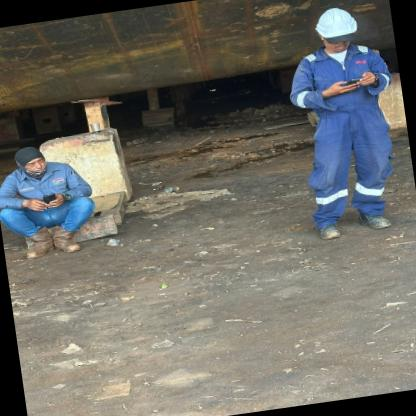bota: (20, 228, 56, 260), (356, 204, 392, 232), (53, 223, 82, 254), (313, 218, 343, 240)
